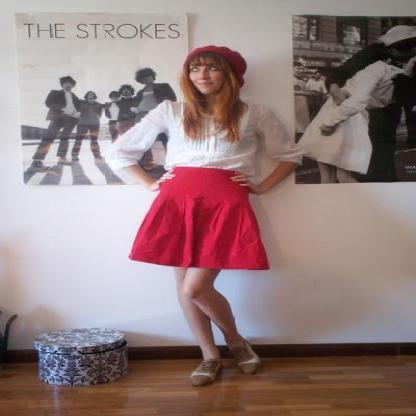shirt: (113, 101, 308, 174)
shoe: (178, 358, 267, 383)
skirt: (129, 166, 268, 269)
